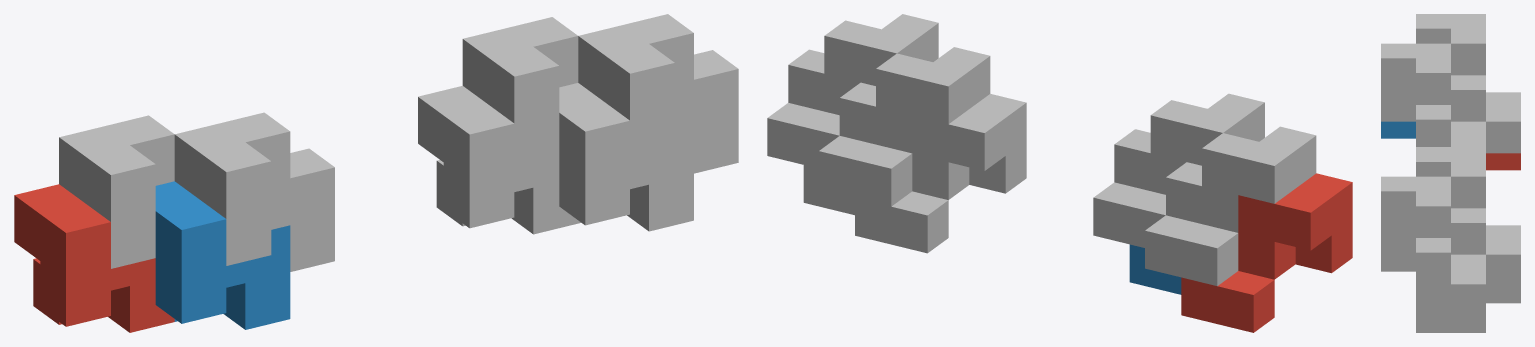
Rendered from tiling.obj.
The picture shows the model from 3 angles, left to right: view 1: azimuth 30°, elevation 25°; view 2: azimuth 150°, elevation 25°; view 3: azimuth 270°, elevation 25°; orthographic projection. The views are drawn at different scales.
Visible parts, largest first — view 1: copy_1_domain_4, copy_1_domain_8, copy_1_domain_5, copy_1_domain_1, copy_1_domain_2, copy_1_domain_6, copy_1_domain_7, copy_1_domain_3; view 2: copy_1_domain_7, copy_1_domain_3, copy_1_domain_1, copy_1_domain_5, copy_1_domain_8, copy_1_domain_4, copy_1_domain_2, copy_1_domain_6; view 3: copy_1_domain_8, copy_1_domain_4, copy_1_domain_3, copy_1_domain_7, copy_1_domain_6, copy_1_domain_1, copy_1_domain_2, copy_1_domain_5.
Boxes of the visible parts, x1,y1,x2,y2 form: copy_1_domain_4: (174, 112, 334, 271); copy_1_domain_8: (578, 14, 738, 173); copy_1_domain_5: (418, 85, 578, 234); copy_1_domain_1: (14, 184, 174, 332); copy_1_domain_2: (155, 181, 290, 329); copy_1_domain_6: (559, 83, 693, 231); copy_1_domain_7: (462, 17, 578, 170); copy_1_domain_3: (59, 115, 174, 268); copy_1_domain_7: (819, 47, 990, 206); copy_1_domain_3: (1145, 126, 1316, 286); copy_1_domain_1: (1181, 173, 1352, 332); copy_1_domain_5: (855, 94, 1026, 253); copy_1_domain_8: (767, 14, 938, 168); copy_1_domain_4: (1093, 93, 1264, 247); copy_1_domain_2: (1129, 244, 1181, 294); copy_1_domain_6: (803, 165, 854, 215); copy_1_domain_8: (1381, 176, 1485, 315); copy_1_domain_4: (1381, 43, 1485, 146); copy_1_domain_3: (1416, 14, 1520, 153); copy_1_domain_7: (1416, 147, 1520, 286); copy_1_domain_6: (1381, 254, 1485, 332); copy_1_domain_1: (1486, 153, 1520, 170); copy_1_domain_2: (1381, 121, 1415, 138); copy_1_domain_5: (1486, 286, 1520, 303).
Bounding box in the file's own units: 15 × 4 × 4.
